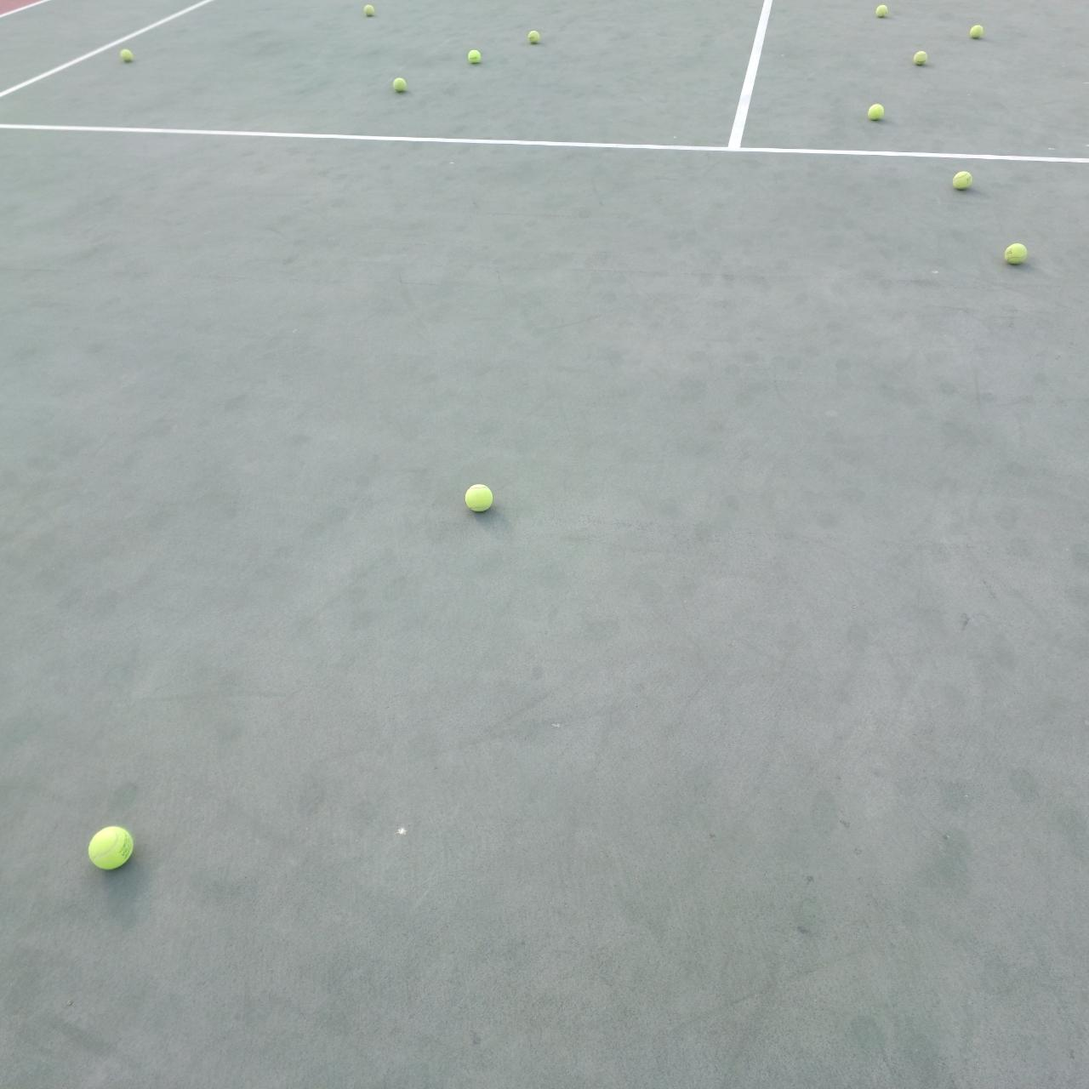tennis-ball: (86, 823, 134, 870), (463, 481, 493, 512), (1002, 241, 1027, 265), (951, 168, 972, 189), (866, 101, 884, 121), (391, 74, 408, 92), (466, 47, 482, 64), (911, 48, 927, 65), (968, 22, 984, 38), (119, 47, 134, 62), (527, 28, 540, 43), (362, 2, 375, 17), (876, 5, 888, 17)
